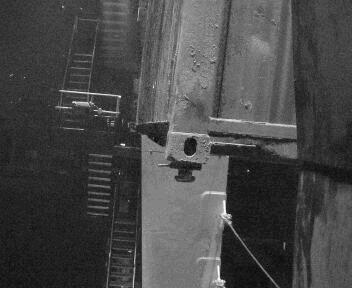twist_lock_1: (165, 155, 206, 190)
